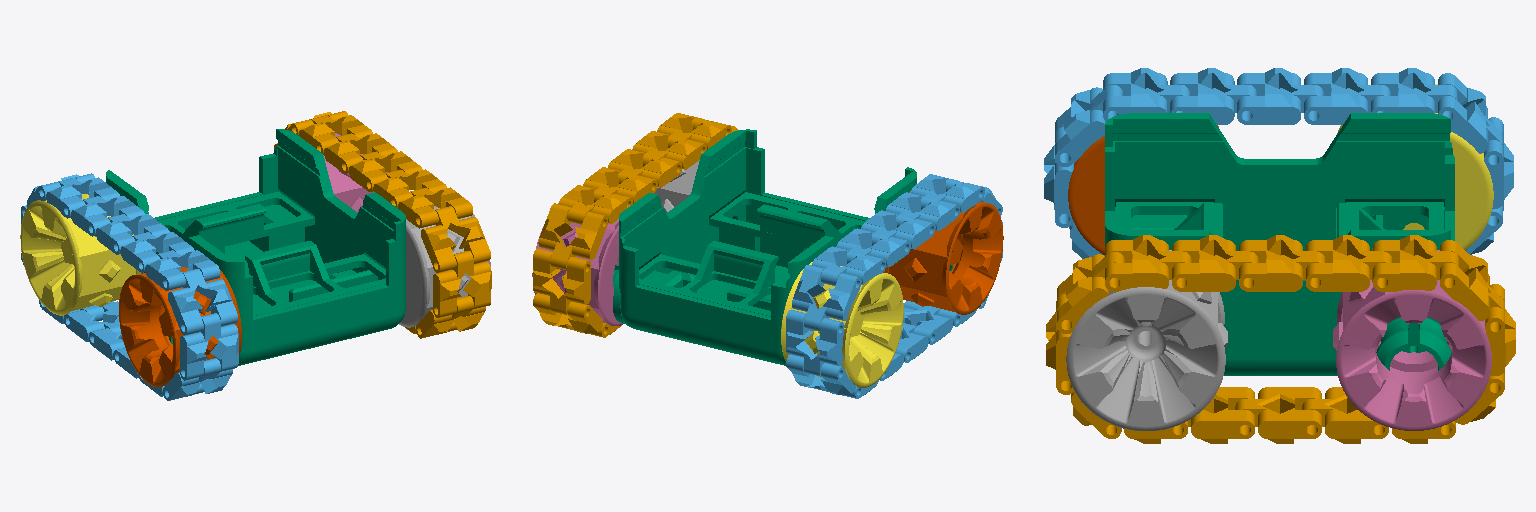
robot.urdf — my_robot:
<?xml version="1.0"?>
<!--
  Robot: my_robot
  Generated by: LinkForge v1.2.3
  https://github.com/arounamounchili/linkforge
  Date: 2026-02-26 12:13:43
-->
<robot name="my_robot">
  <!-- Links -->
  <link name="left_mechanical_track">
    <visual>
      <origin xyz="0 0 0" rpy="0 0 0" />
      <geometry>
        <mesh filename="package://robot_navigation/meshes/left_mechanical_track_visual.obj" />
      </geometry>
    </visual>
    <inertial>
      <mass value="1" />
      <inertia ixx="1044.106727" ixy="0.013385" ixz="0.014128" iyy="569.298246" iyz="-311.486351" izz="526.407705" />
    </inertial>
  </link>
  <link name="right_mechanical_track">
    <visual>
      <origin xyz="0.000001 0 0" rpy="0 0 0" />
      <geometry>
        <mesh filename="package://robot_navigation/meshes/right_mechanical_track_visual.obj" />
      </geometry>
    </visual>
    <inertial>
      <mass value="1" />
      <inertia ixx="1044.106787" ixy="0.134871" ixz="0.000392" iyy="235.635988" iyz="-2.047673" izz="860.070068" />
    </inertial>
  </link>
  <link name="chassis">
    <visual>
      <origin xyz="0.022589 -0.020235 -3.422767" rpy="0 0 0" />
      <geometry>
        <mesh filename="package://robot_navigation/meshes/chassis_visual.obj" />
      </geometry>
    </visual>
    <collision>
      <origin xyz="0 0 3.556792" rpy="0 0 0" />
      <geometry>
        <box size="58.12825 70 33" />
      </geometry>
    </collision>
    <inertial>
      <mass value="1" />
      <inertia ixx="499.083333" ixy="0" ixz="0" iyy="372.324455" iyz="0" izz="689.907789" />
    </inertial>
  </link>
  <link name="right_master_wheel">
    <visual>
      <geometry>
        <mesh filename="package://robot_navigation/meshes/right_master_wheel_visual.obj" />
      </geometry>
    </visual>
    <collision>
      <origin xyz="-0.802914 0.000914 -0.000025" rpy="0 1.570796 0" />
      <geometry>
        <cylinder radius="20.447336" length="20.70372" />
      </geometry>
    </collision>
    <inertial>
      <mass value="1" />
      <inertia ixx="140.243725" ixy="0" ixz="0" iyy="140.243725" iyz="0" izz="209.046779" />
    </inertial>
  </link>
  <link name="base_link">
    <inertial>
      <mass value="1" />
      <inertia ixx="1" ixy="0" ixz="0" iyy="1" iyz="0" izz="1" />
    </inertial>
  </link>
  <link name="right_slave_wheel">
    <visual>
      <geometry>
        <mesh filename="package://robot_navigation/meshes/right_slave_wheel_visual.obj" />
      </geometry>
    </visual>
    <collision>
      <origin xyz="-0.466064 0 -0.000009" rpy="0 1.570796 0" />
      <geometry>
        <cylinder radius="20.425734" length="20.702394" />
      </geometry>
    </collision>
    <inertial>
      <mass value="1" />
      <inertia ixx="140.018409" ixy="0" ixz="0" iyy="140.018409" iyz="0" izz="208.605296" />
    </inertial>
  </link>
  <link name="left_slave_wheel">
    <visual>
      <origin xyz="0 0 0" rpy="0 0 0" />
      <geometry>
        <mesh filename="package://robot_navigation/meshes/left_slave_wheel_visual.obj" />
      </geometry>
    </visual>
    <collision>
      <origin xyz="-0.466065 0 -0.000009" rpy="0 1.570796 0" />
      <geometry>
        <cylinder radius="20.425734" length="20.702394" />
      </geometry>
    </collision>
    <inertial>
      <mass value="1" />
      <inertia ixx="140.018409" ixy="0" ixz="0" iyy="140.018409" iyz="0" izz="208.605296" />
    </inertial>
  </link>
  <link name="left_master_wheel">
    <visual>
      <origin xyz="0 0 0" rpy="0 0 0" />
      <geometry>
        <mesh filename="package://robot_navigation/meshes/left_master_wheel_visual.obj" />
      </geometry>
    </visual>
    <collision>
      <origin xyz="-0.802913 0.000912 -0.000025" rpy="0 1.570796 0" />
      <geometry>
        <cylinder radius="20.447313" length="20.70372" />
      </geometry>
    </collision>
    <inertial>
      <mass value="1" />
      <inertia ixx="140.243491" ixy="0" ixz="0" iyy="140.243491" iyz="0" izz="209.046311" />
    </inertial>
  </link>
  <!-- Joints -->
  <joint name="left_mechanical_track_joint" type="revolute">
    <origin xyz="39.500122 0.120039 8.070752" rpy="-0.816489 0 0" />
    <parent link="base_link" />
    <child link="left_mechanical_track" />
    <axis xyz="0 0 1" />
    <limit effort="10" velocity="1" lower="-3.141593" upper="3.141593" />
  </joint>
  <joint name="right_mechanical_track_joint" type="revolute">
    <origin xyz="-39.393196 -0.179047 8.07074" rpy="3.141593 0 0.000191" />
    <parent link="base_link" />
    <child link="right_mechanical_track" />
    <axis xyz="0 0 1" />
    <limit effort="10" velocity="1" lower="-3.141593" upper="3.141593" />
  </joint>
  <joint name="chassis_joint" type="fixed">
    <origin xyz="0 0 12.943208" rpy="0 0 0" />
    <parent link="base_link" />
    <child link="chassis" />
  </joint>
  <joint name="right_master_wheel_joint" type="continuous">
    <origin xyz="-38.432346 26.727301 -4.946648" rpy="0 0 0" />
    <parent link="chassis" />
    <child link="right_master_wheel" />
    <axis xyz="0 0 1" />
    <limit effort="10" velocity="1" />
  </joint>
  <joint name="right_slave_wheel_joint" type="continuous">
    <origin xyz="-38.960999 -26.727301 -4.946648" rpy="0 0 0" />
    <parent link="chassis" />
    <child link="right_slave_wheel" />
    <axis xyz="0 0 1" />
    <limit effort="10" velocity="1" />
  </joint>
  <joint name="left_slave_wheel_joint" type="continuous">
    <origin xyz="38.960999 26.727301 -4.946648" rpy="0 0 -3.141593" />
    <parent link="chassis" />
    <child link="left_slave_wheel" />
    <axis xyz="0 0 1" />
    <limit effort="10" velocity="1" />
  </joint>
  <joint name="left_master_wheel_joint" type="continuous">
    <origin xyz="38.432301 -26.727301 -4.946648" rpy="0 0 -3.141593" />
    <parent link="chassis" />
    <child link="left_master_wheel" />
    <axis xyz="0 0 1" />
    <limit effort="10" velocity="1" />
  </joint>
</robot>

--- What the picture shows (computed from the rendered views, not written in the file) ---
The picture shows the robot from 3 angles, left to right: view 1: azimuth 30°, elevation 25°; view 2: azimuth 150°, elevation 25°; view 3: azimuth 270°, elevation 25°; orthographic projection.
Model my_robot with 8 links and 7 joints (2 revolute, 4 continuous, 1 fixed), rooted at base_link, posed every joint at zero.
Visible links, largest first — view 1: chassis, right_mechanical_track, left_mechanical_track, right_master_wheel, right_slave_wheel, left_master_wheel, left_slave_wheel; view 2: chassis, right_mechanical_track, left_mechanical_track, right_slave_wheel, right_master_wheel, left_slave_wheel, left_master_wheel; view 3: chassis, left_mechanical_track, right_mechanical_track, left_master_wheel, left_slave_wheel, right_master_wheel, right_slave_wheel.
Boxes of the visible links, x1=… form: chassis: x1=106, y1=129, x2=405, y2=365; right_mechanical_track: x1=21, y1=173, x2=238, y2=400; left_mechanical_track: x1=274, y1=111, x2=491, y2=338; right_master_wheel: x1=20, y1=194, x2=141, y2=315; right_slave_wheel: x1=119, y1=267, x2=241, y2=386; left_master_wheel: x1=399, y1=206, x2=490, y2=327; left_slave_wheel: x1=273, y1=133, x2=388, y2=212; chassis: x1=613, y1=129, x2=952, y2=365; right_mechanical_track: x1=786, y1=174, x2=1002, y2=398; left_mechanical_track: x1=533, y1=113, x2=737, y2=337; right_slave_wheel: x1=883, y1=191, x2=1003, y2=314; right_master_wheel: x1=781, y1=262, x2=903, y2=387; left_slave_wheel: x1=532, y1=219, x2=623, y2=325; left_master_wheel: x1=654, y1=160, x2=699, y2=212; chassis: x1=1105, y1=113, x2=1454, y2=375; left_mechanical_track: x1=1046, y1=235, x2=1515, y2=443; right_mechanical_track: x1=1044, y1=68, x2=1513, y2=258; left_master_wheel: x1=1066, y1=250, x2=1227, y2=430; left_slave_wheel: x1=1333, y1=250, x2=1491, y2=430; right_master_wheel: x1=1337, y1=84, x2=1493, y2=250; right_slave_wheel: x1=1068, y1=125, x2=1218, y2=254.
Bounding box of the posed robot: 98.97 × 93.98 × 40.47 m (x, y, z).
7 mesh visuals loaded from 7 distinct referenced files (7 OBJ).
